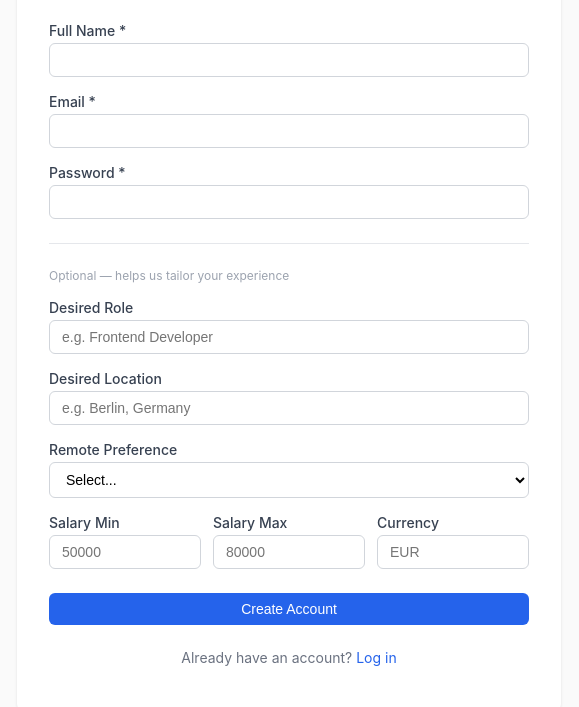
Scenario: RegisterPage › shows validation for required fields
This screenshot has width=579, height=707.
(page scrolled)
Click the button "Create Account" at (289, 609), box [49,593,529,625]
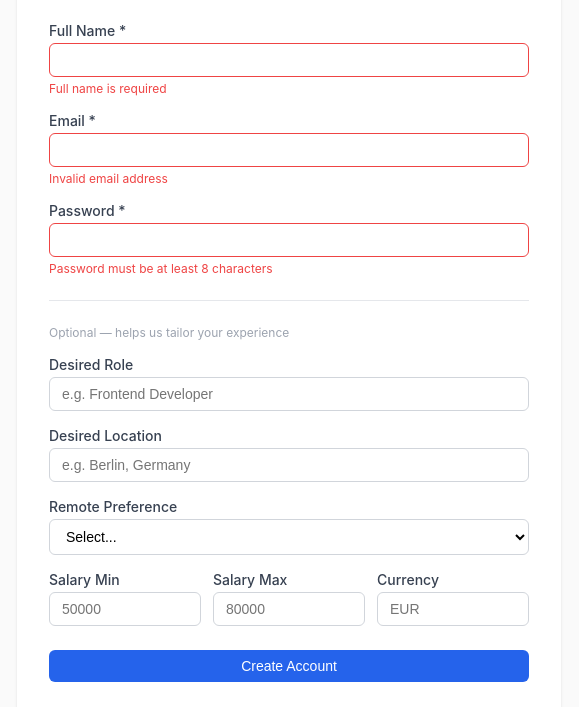
Expected: the text "Full name is required" is shown, [49,81,167,96]
Expected: the text "Invalid email address" is shown, [49,171,168,186]
